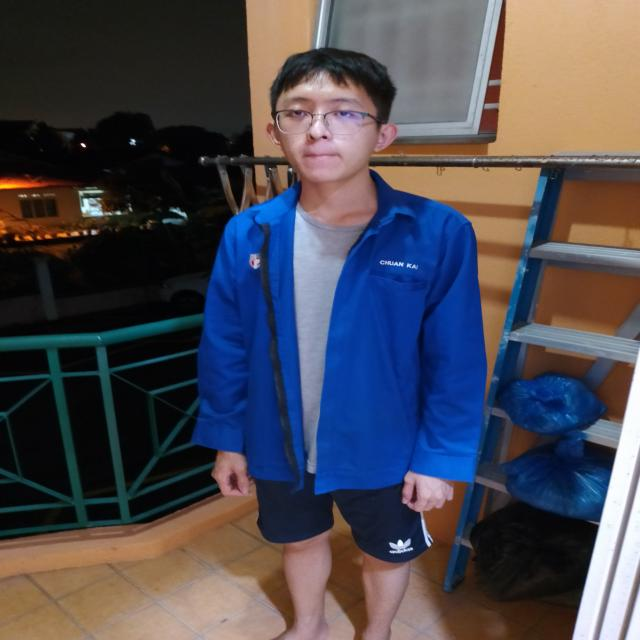person_with_labcoat: (192, 49, 486, 640)
